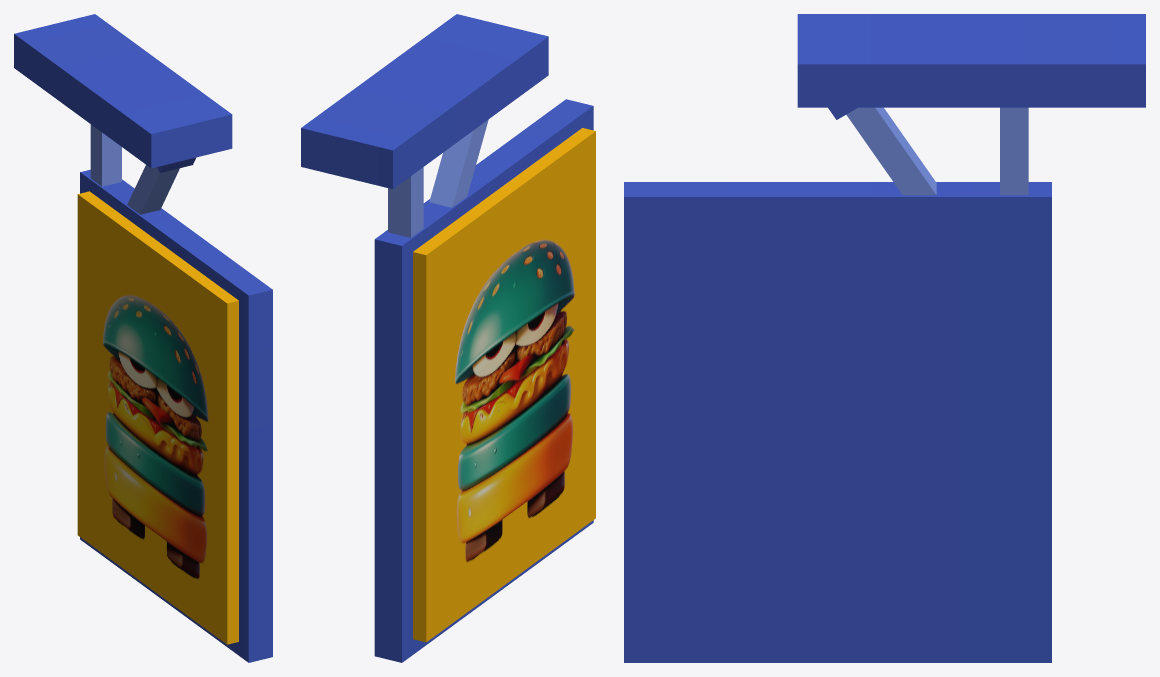
The model's file is SignProp_1_B_3.fbx.
The picture shows the model from 3 angles, left to right: view 1: azimuth 30°, elevation 25°; view 2: azimuth 150°, elevation 25°; view 3: azimuth 270°, elevation 25°; orthographic projection. The views are drawn at different scales.
Visible parts, largest first — view 1: SignProp_1_B_3; view 2: SignProp_1_B_3; view 3: SignProp_1_B_3.
Boxes of the visible parts, x1,y1,x2,y2 form: SignProp_1_B_3: [14, 14, 272, 662]; SignProp_1_B_3: [301, 14, 595, 662]; SignProp_1_B_3: [624, 14, 1145, 662].
Bounding box in the file's own units: 20.79 × 119 × 91.36.
